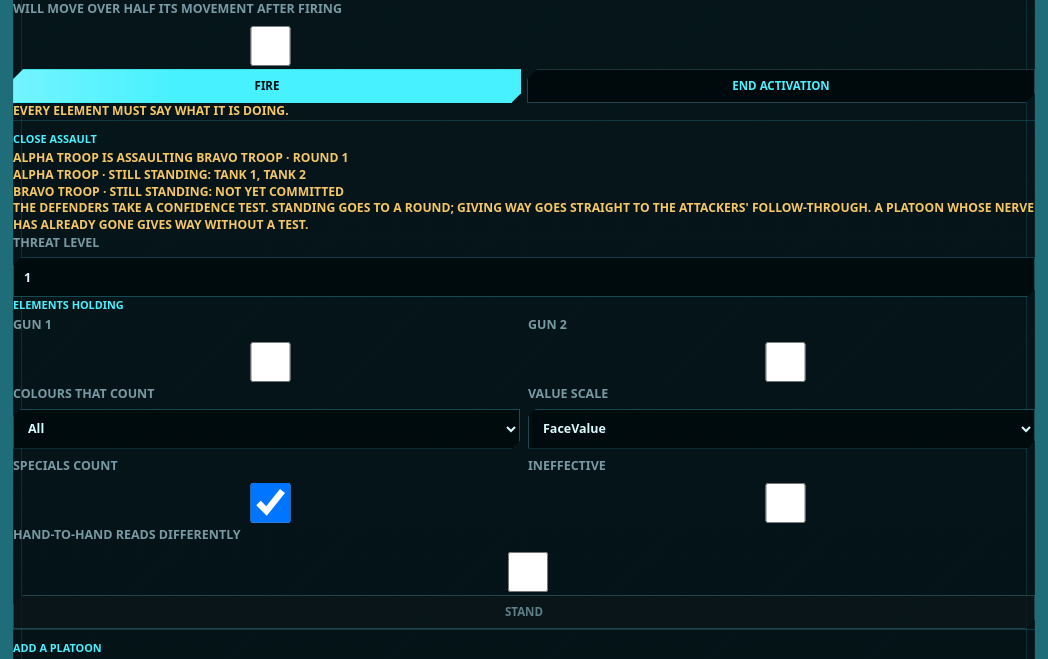
Test: Dirtside close assault › lets the defender stand with its own elements and threat
This screenshot has width=1048, height=659.
(page scrolled)
Expected: the text "Alpha Troop is assaulting Bravo Troop · round 1" is shown, [13, 149, 349, 166]
Click the checkbox labelled "Gun 2".
click(784, 362)  # box [532, 342, 1036, 382]
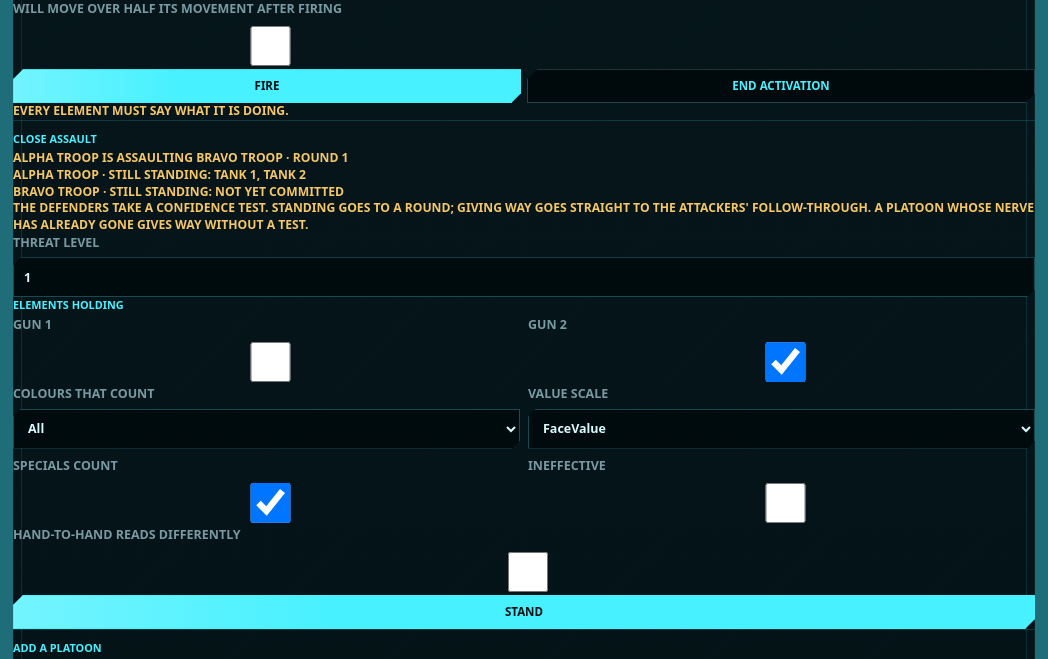
Replace the text in the number field labelled "Threat level" with "3" at (524, 277), box [13, 257, 1035, 297]
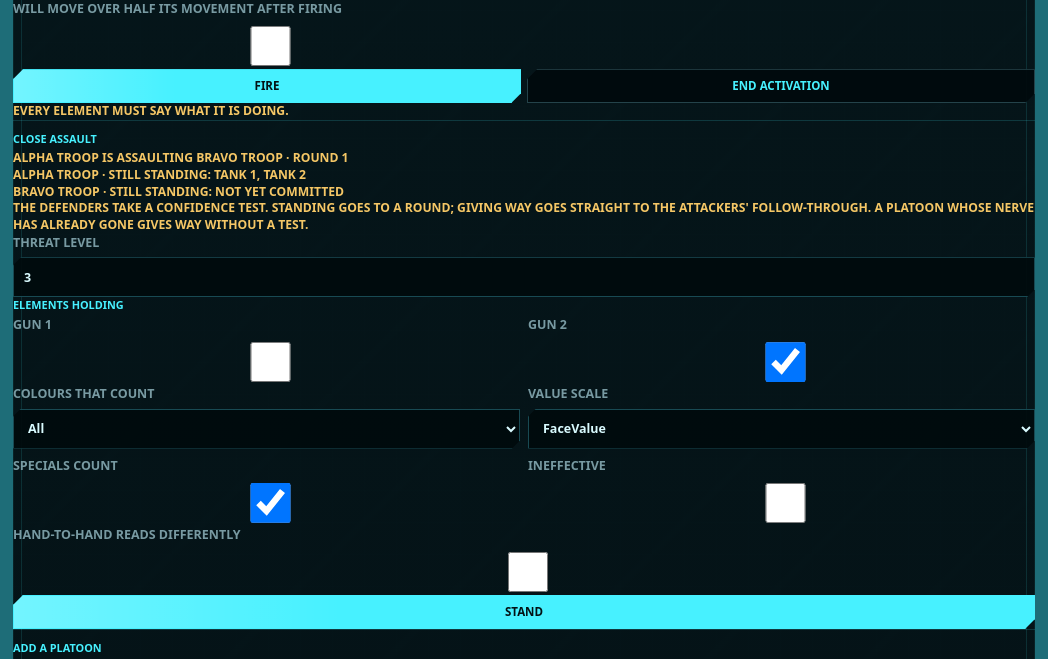
Click the button "Stand".
click(524, 612)  # box [13, 595, 1035, 629]
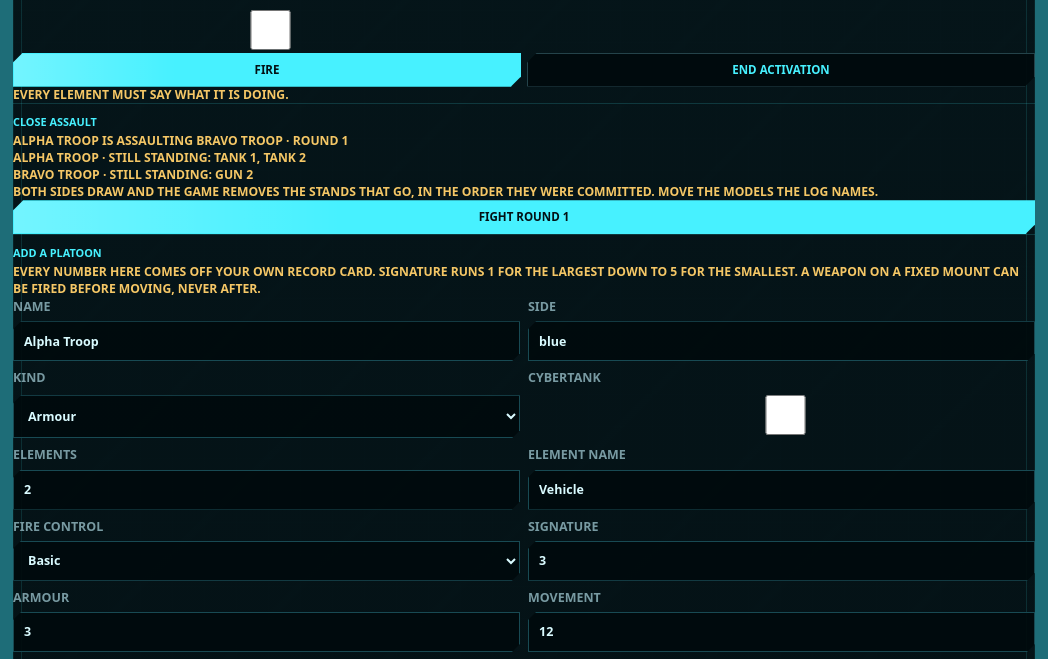
Expected: the button "Fight Round 1" is shown, [13, 200, 1035, 234]
